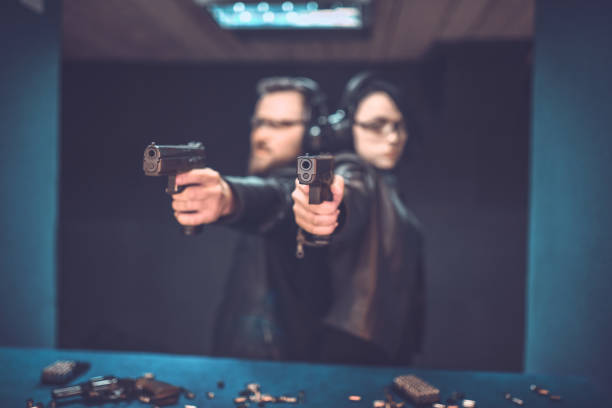gun: (142, 141, 206, 236), (295, 154, 333, 206)
